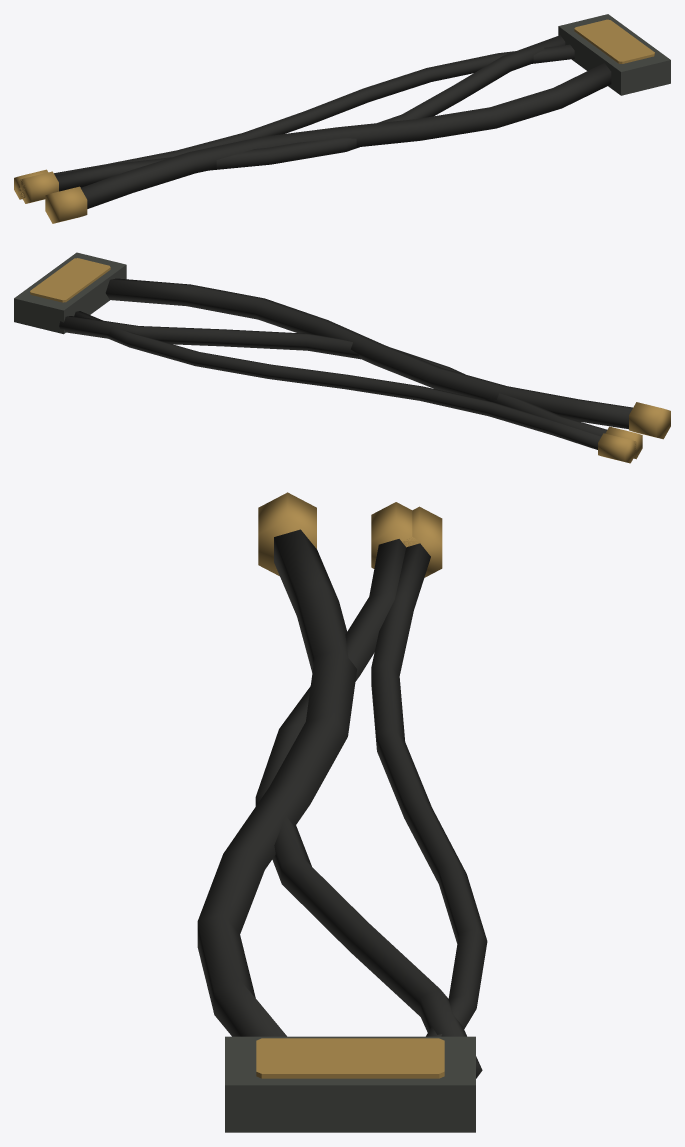
Rendered from b1_cables.glb.
3 views of the same model, one above another, from view 1: azimuth 30°, elevation 25°; view 2: azimuth 150°, elevation 25°; view 3: azimuth 270°, elevation 25° (orthographic). The views are drawn at different scales.
Visible parts, largest first — view 1: b1_cables; view 2: b1_cables; view 3: b1_cables.
Part boxes in pixels (x1=…): b1_cables: x1=14, y1=14, x2=670, y2=223; b1_cables: x1=14, y1=252, x2=670, y2=463; b1_cables: x1=197, y1=492, x2=487, y2=1132.
Size of the model in its own units: 2.66 by 0.13 by 0.5543.
